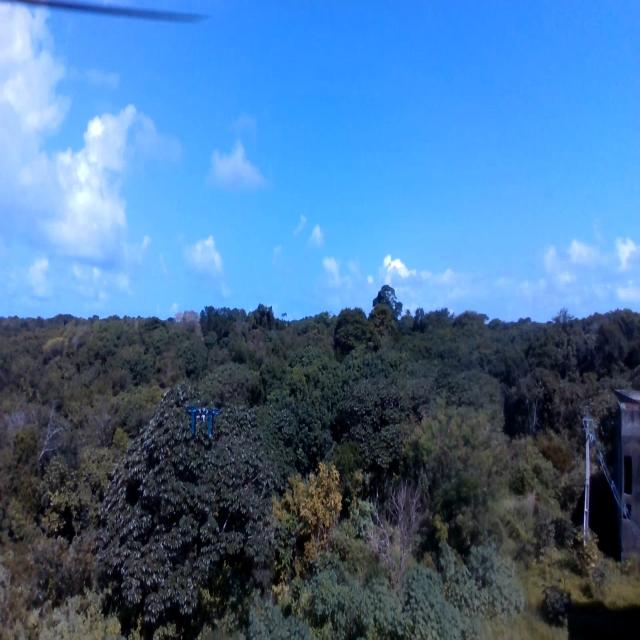-uav-: (188, 390, 224, 468)
